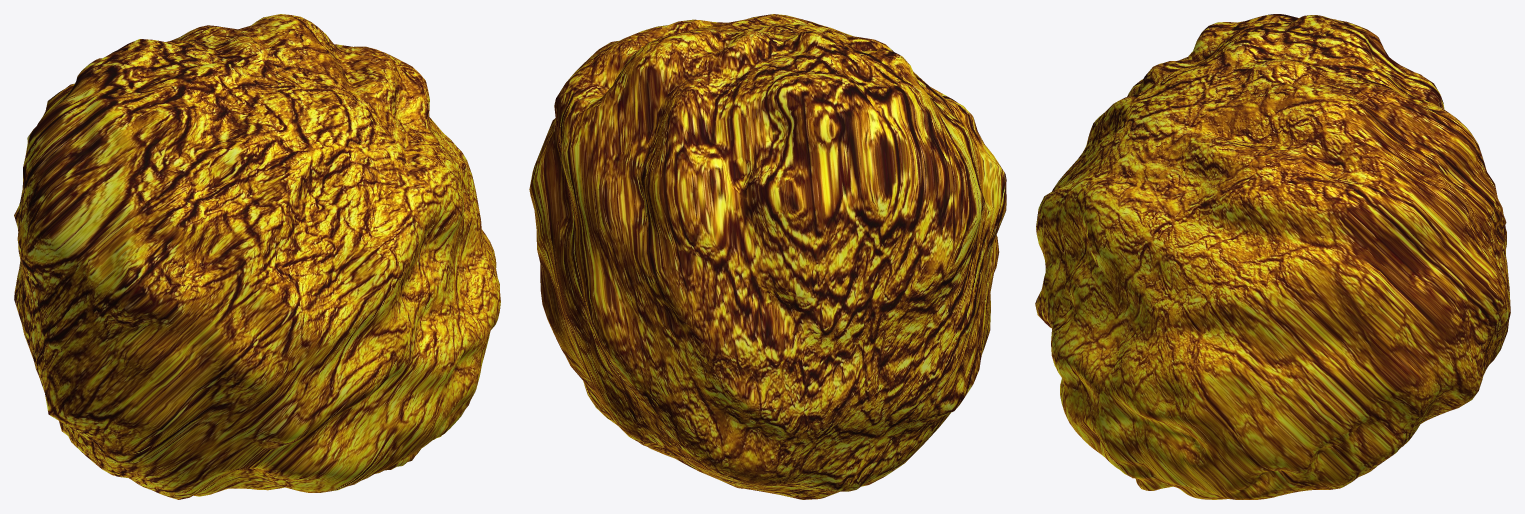
File: GoldFBX.fbx
The picture shows the model from 3 angles, left to right: view 1: azimuth 30°, elevation 25°; view 2: azimuth 150°, elevation 25°; view 3: azimuth 270°, elevation 25°; orthographic projection. The views are drawn at different scales.
Visible parts, largest first — view 1: pSphere2; view 2: pSphere2; view 3: pSphere2.
Part boxes in pixels (bbox=[...]): pSphere2: bbox=[14, 14, 500, 499]; pSphere2: bbox=[529, 14, 1006, 499]; pSphere2: bbox=[1035, 14, 1510, 499].
Bounding box in the file's own units: 9.59 × 9.43 × 9.64.
